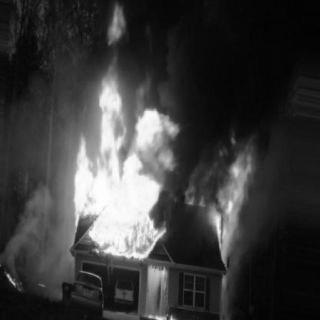Fire: (67, 23, 191, 263), (193, 134, 269, 300)
Smoke: (177, 4, 309, 140)
